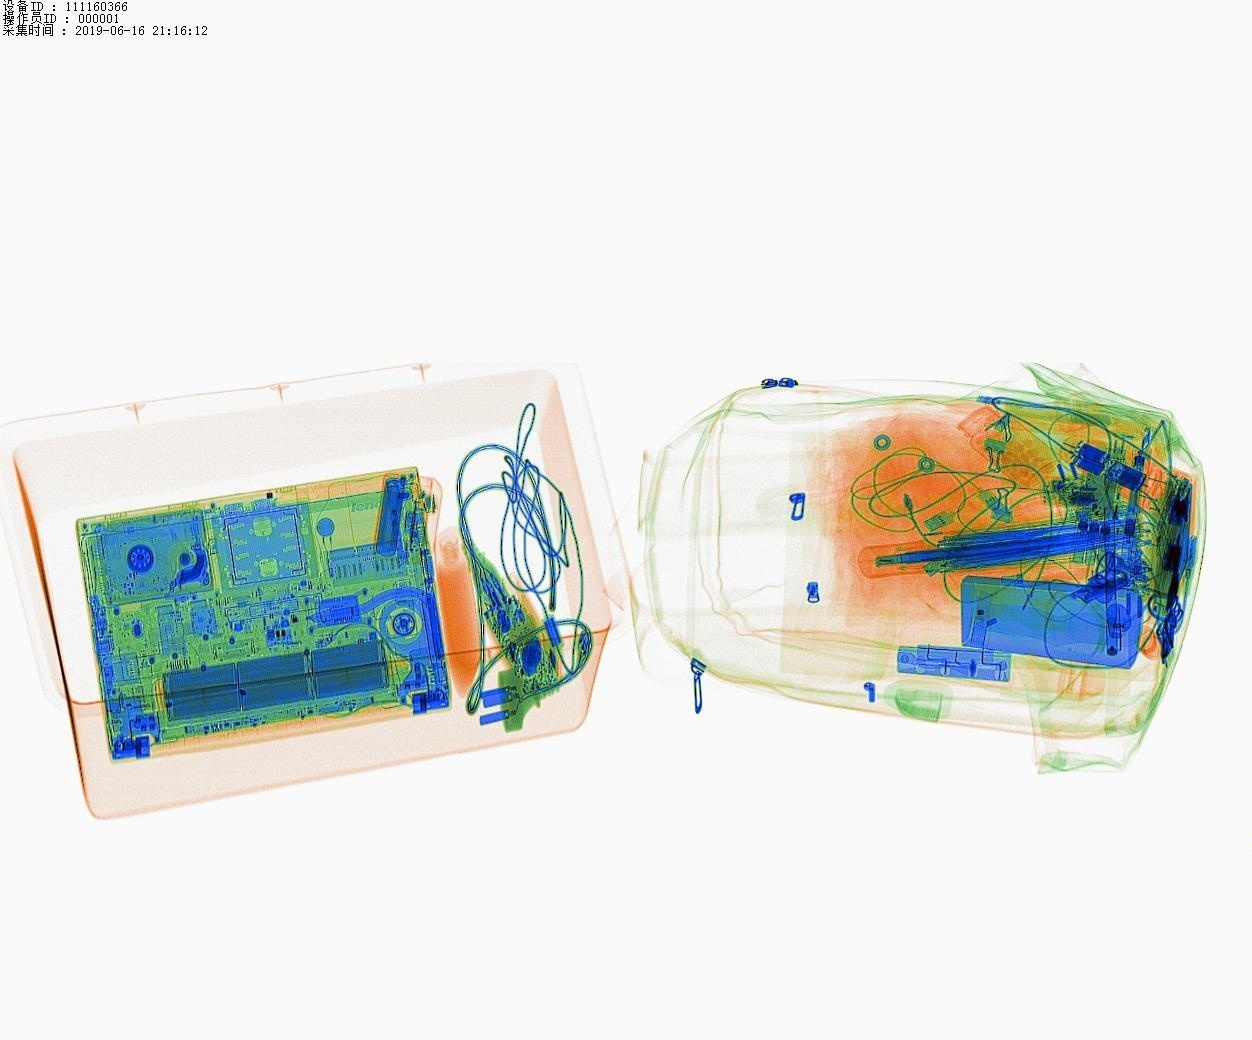NonmetallicFire: (1097, 468, 1133, 540)
